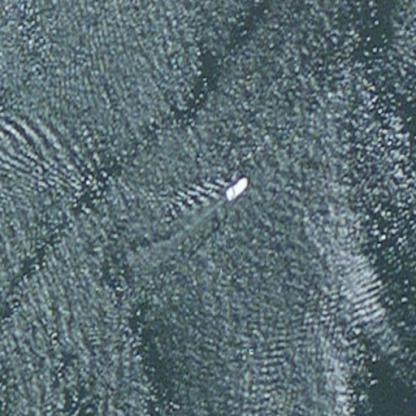ship: (223, 9, 249, 35)
